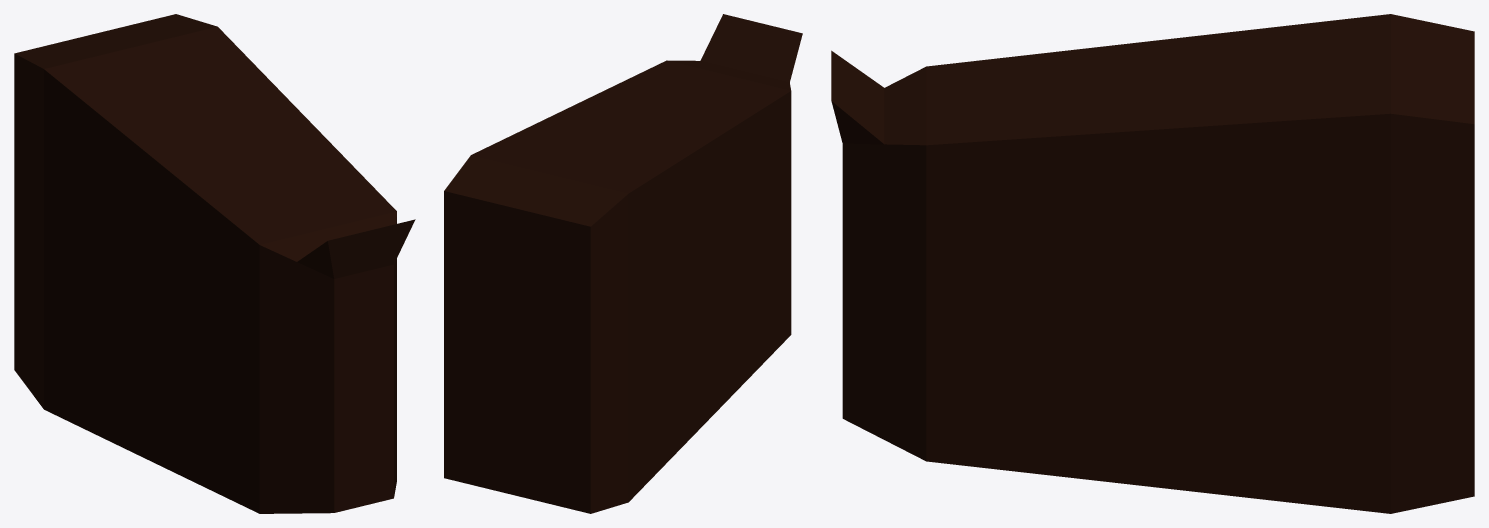
File: chocolateChipBag.obj
3 views of the same model, side by side, from view 1: azimuth 30°, elevation 25°; view 2: azimuth 150°, elevation 25°; view 3: azimuth 270°, elevation 25° (orthographic). The views are drawn at different scales.
Visible parts, largest first — view 1: bag.000_bag.001; view 2: bag.000_bag.001; view 3: bag.000_bag.001.
Boxes of the visible parts, box(x1,y1,x2,y2) form: bag.000_bag.001: box(14, 14, 415, 513); bag.000_bag.001: box(444, 14, 802, 513); bag.000_bag.001: box(831, 14, 1474, 513).
Bounding box in the file's own units: 0.1101 × 0.2059 × 0.2999.
